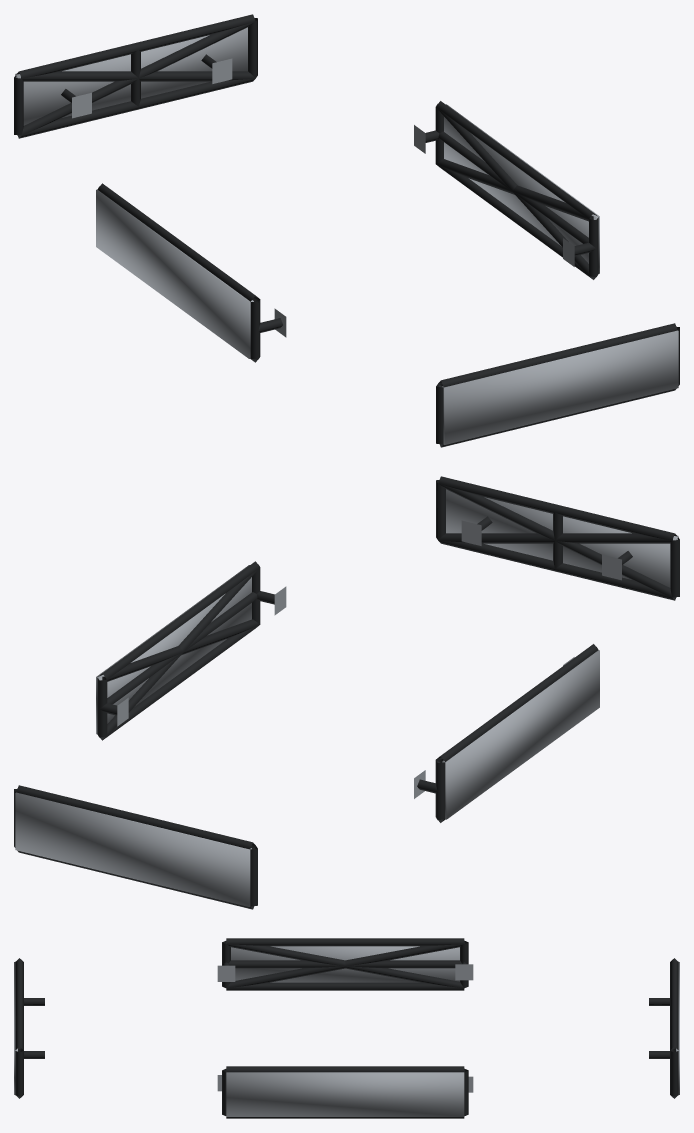
File: sanga_chispa_protecao.glb
3 views of the same model, one above another, from view 1: azimuth 30°, elevation 25°; view 2: azimuth 150°, elevation 25°; view 3: azimuth 270°, elevation 25° (orthographic). The views are drawn at different scales.
Visible parts, largest first — view 1: Protection_front_Level3_Details, Protection_left_Level3_Details, Protection_rear_Level1_Details, Protection_rear_Level3_Details, Protection_right_Level1_Details, Protection_rear_Level2_Details, Protection_right_Level2_Details, Protection_right_Level3_Details, Protection_front_Level1_Details, Protection_left_Level1_Details; view 2: Protection_rear_Level3_Details, Protection_left_Level3_Details, Protection_front_Level1_Details, Protection_front_Level3_Details, Protection_right_Level1_Details, Protection_front_Level2_Details, Protection_right_Level2_Details, Protection_right_Level3_Details, Protection_rear_Level1_Details, Protection_left_Level1_Details; view 3: Protection_right_Level3_Details, Protection_left_Level2_Details, Protection_left_Level1_Details, Protection_left_Level3_Details, Protection_right_Level1_Details, Protection_rear_Level1_Details, Protection_front_Level1_Details.
Part boxes in pixels (box(x1,y1,x2,y2)): Protection_front_Level3_Details: box(442, 330, 678, 444); Protection_left_Level3_Details: box(96, 189, 253, 358); Protection_rear_Level1_Details: box(14, 14, 257, 138); Protection_rear_Level3_Details: box(15, 27, 247, 125); Protection_right_Level1_Details: box(414, 101, 598, 279); Protection_rear_Level2_Details: box(16, 22, 255, 137); Protection_right_Level2_Details: box(436, 107, 597, 279); Protection_right_Level3_Details: box(444, 104, 599, 273); Protection_front_Level1_Details: box(436, 323, 679, 447); Protection_left_Level1_Details: box(97, 183, 286, 362); Protection_rear_Level3_Details: box(15, 792, 251, 906); Protection_left_Level3_Details: box(442, 650, 599, 819); Protection_front_Level1_Details: box(436, 476, 679, 600); Protection_front_Level3_Details: box(446, 489, 678, 587); Protection_right_Level1_Details: box(97, 561, 286, 740); Protection_front_Level2_Details: box(438, 484, 677, 599); Protection_right_Level2_Details: box(98, 568, 259, 739); Protection_right_Level3_Details: box(96, 565, 251, 734); Protection_rear_Level1_Details: box(14, 785, 257, 909); Protection_left_Level1_Details: box(414, 644, 598, 822); Protection_right_Level3_Details: box(226, 1072, 464, 1116); Protection_left_Level2_Details: box(226, 942, 464, 988); Protection_left_Level1_Details: box(217, 938, 473, 990); Protection_left_Level3_Details: box(231, 946, 459, 982); Protection_right_Level1_Details: box(217, 1066, 473, 1118); Protection_rear_Level1_Details: box(649, 958, 678, 1098); Protection_front_Level1_Details: box(15, 958, 44, 1098).
Bounding box in the file's own units: 1.93 × 0.354 × 4.09.
1 material, 1 textured.
